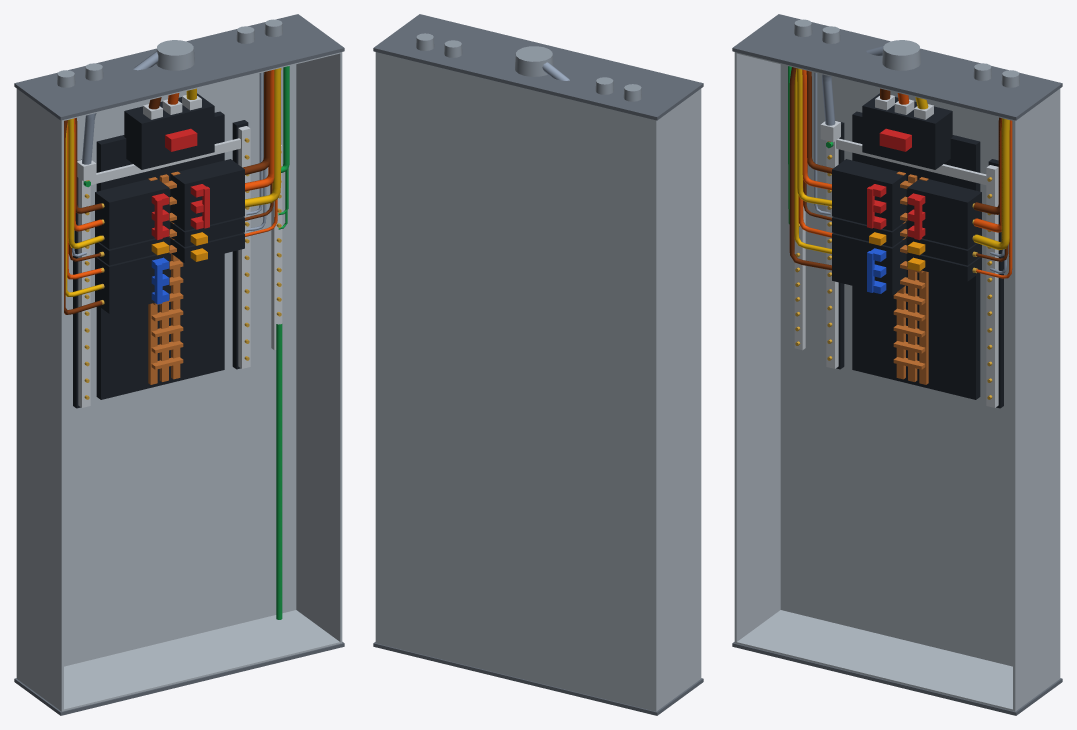
3 views of the same model, side by side, from view 1: azimuth 30°, elevation 25°; view 2: azimuth 150°, elevation 25°; view 3: azimuth 330°, elevation 25° (orthographic).
Parts seen in each view (by area): view 1: panel-interior-demo_comm_480v; view 2: panel-interior-demo_comm_480v; view 3: panel-interior-demo_comm_480v.
Part boxes in pixels (x1=…): panel-interior-demo_comm_480v: x1=14, y1=14, x2=344, y2=715; panel-interior-demo_comm_480v: x1=373, y1=14, x2=703, y2=715; panel-interior-demo_comm_480v: x1=732, y1=14, x2=1062, y2=715.
Bounding box in the file's own units: 0.526 × 1.09 × 0.149.
